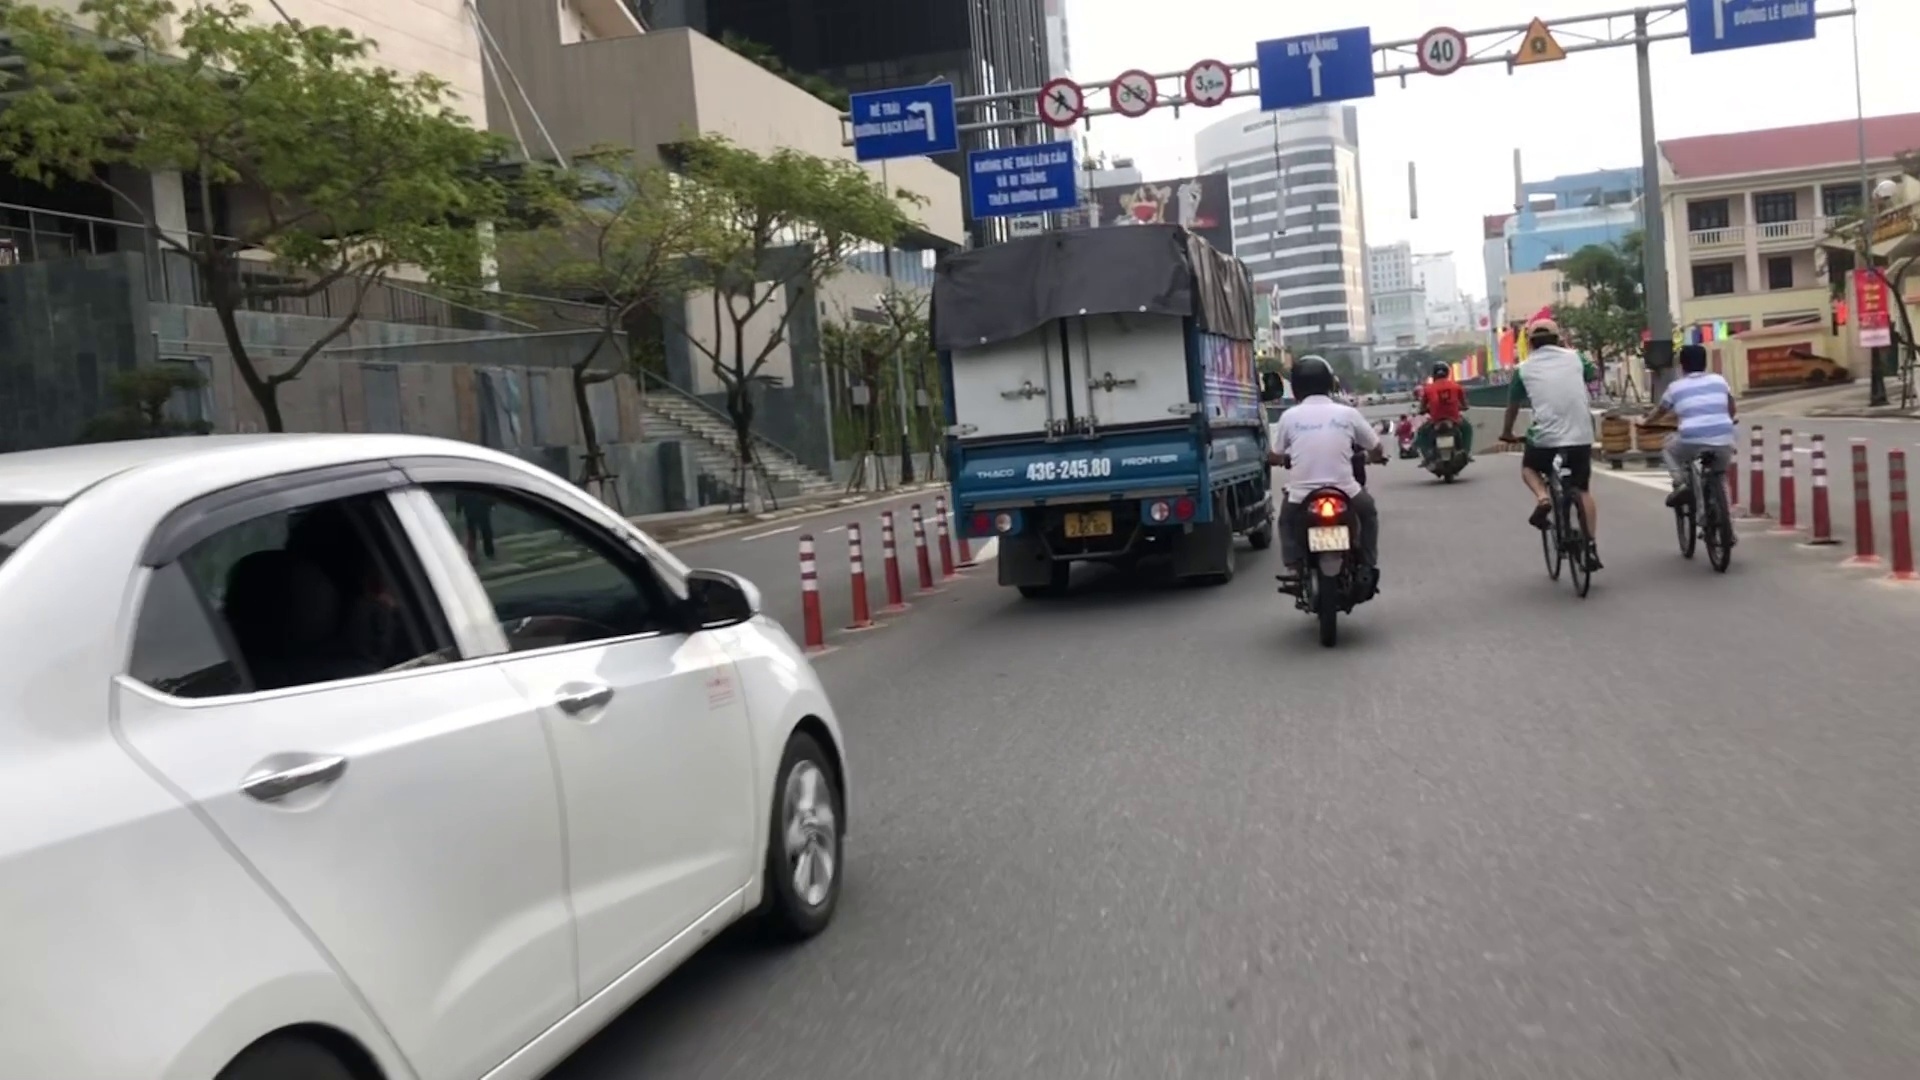Bien khac: (1418, 18, 1464, 76)
